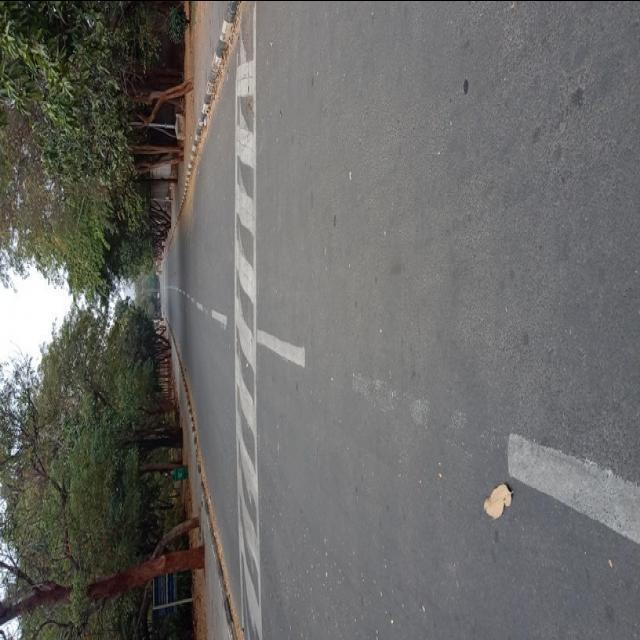speedbreaker: (228, 2, 264, 640)
